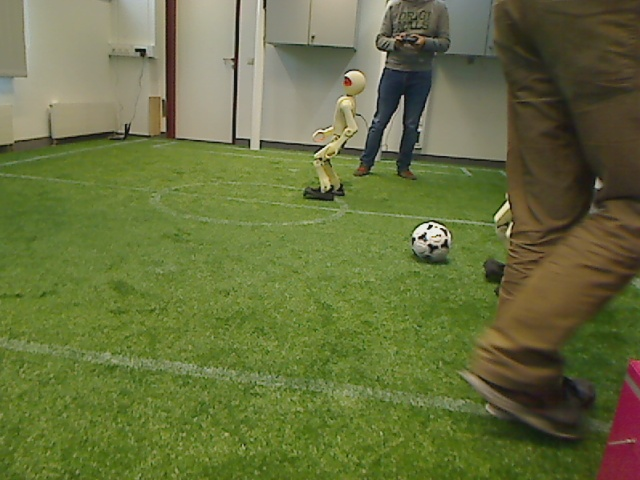ball: (408, 219, 456, 267)
robot: (302, 66, 369, 201)
